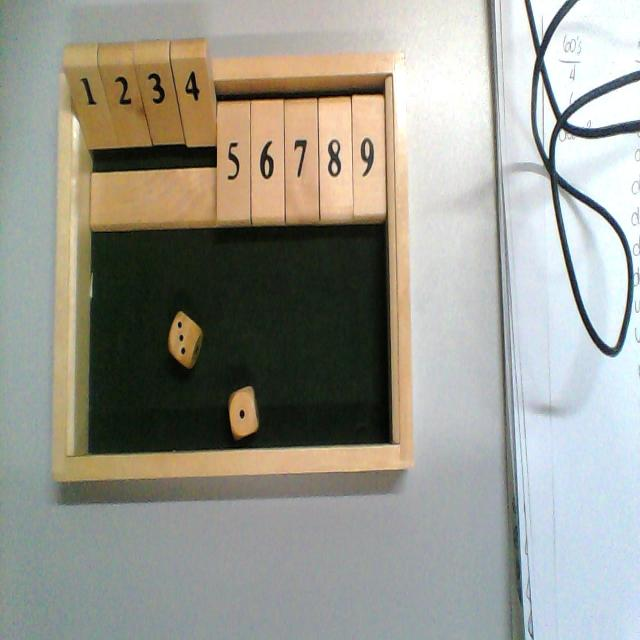1: (224, 380, 262, 449)
3: (164, 303, 205, 372)
O1: (62, 42, 117, 232)
O2: (98, 44, 152, 232)
O3: (132, 41, 185, 231)
O4: (170, 35, 217, 226)
